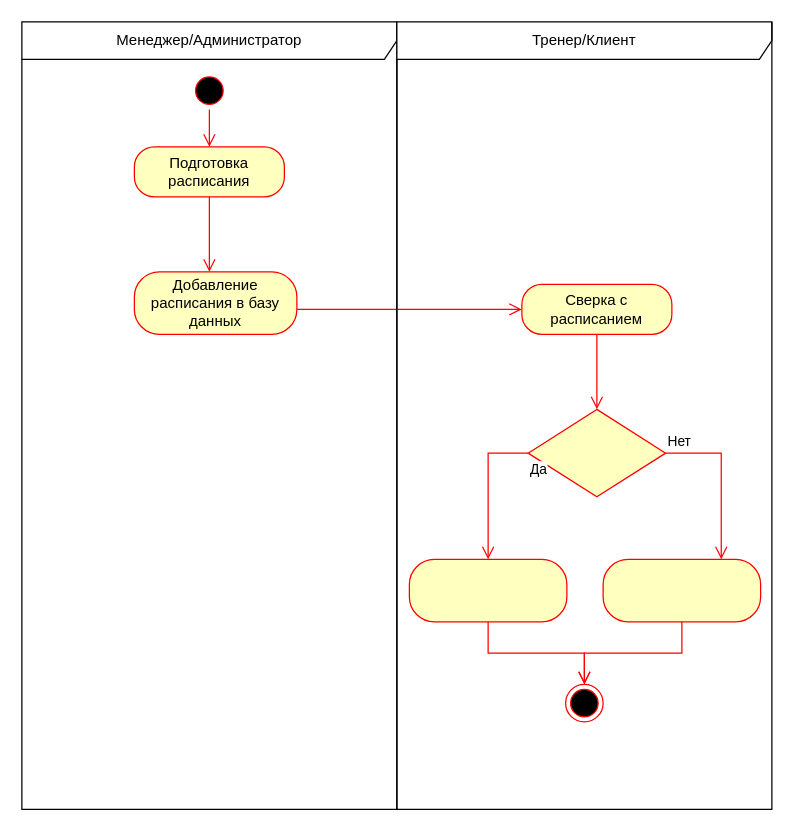
The diagram is 794 pixels wide and 831 high, and some of its shapes have lost their labels. The shapes that lost their labels are listed below. From the top down, each one's centre as x and y in pixels, then its label:
the point at 596,452: Моё
the point at 487,590: Клиент приходит в зал / тренер проводит занятие
the point at 681,590: Клиент не приходит в зал / тренер не проводит занятие
